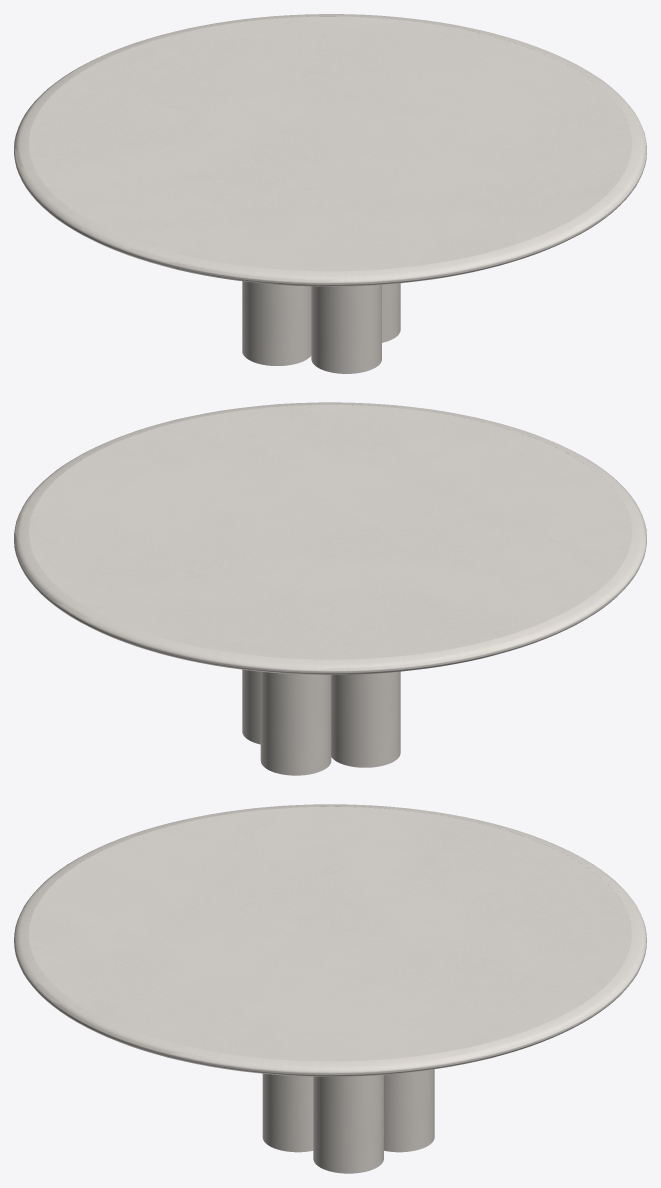
File: pearlwhite_oval_round_secondtable.glb
3 views of the same model, one above another, from view 1: azimuth 30°, elevation 25°; view 2: azimuth 150°, elevation 25°; view 3: azimuth 270°, elevation 25° (orthographic).
Parts seen in each view (by area): view 1: round_round, secondtable; view 2: round_round, secondtable; view 3: round_round, secondtable.
Part boxes in pixels (<box>): round_round: <box>14,14,646,286</box>; secondtable: <box>242,281,400,373</box>; round_round: <box>14,402,646,674</box>; secondtable: <box>242,669,400,775</box>; round_round: <box>14,804,646,1076</box>; secondtable: <box>262,1069,434,1173</box>.
Bounding box in the file's own units: 7.09 × 2.51 × 7.09.
1 material, 1 textured.
